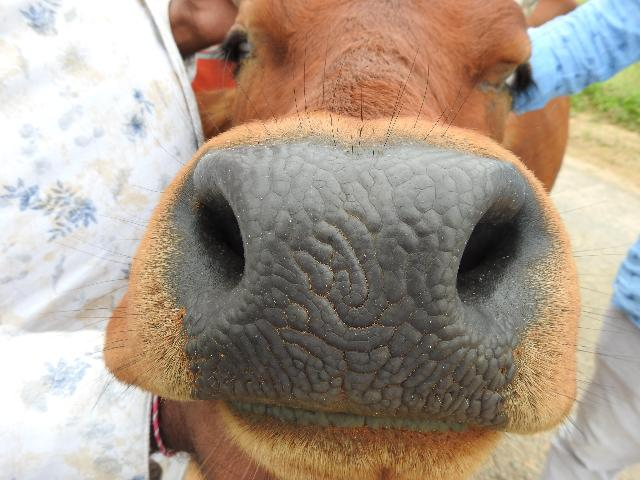Muzzle: (192, 133, 476, 433)
